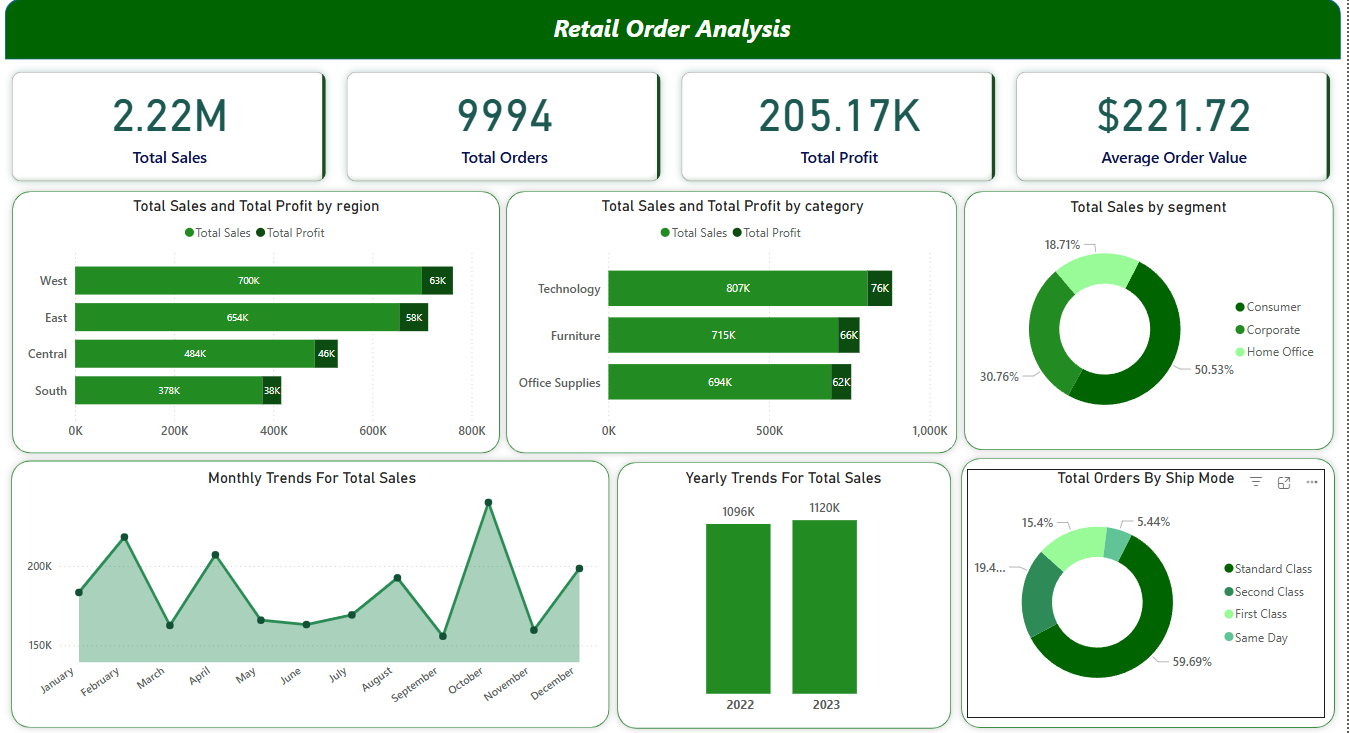

The page's visual inventory and layout, read from the dashboard file:
{"tool":"powerbi","page":{"name":"Page 1","canvas":[1500,820],"ordinal":0},"visuals":[{"type":"shape","box":[8.4,2.4,1484.3,67.5],"z":0},{"type":"cardVisual","fields":{"Data":["Orders.Total Sales","Orders.Total Orders","Orders.Total Profit","Orders.Average Order Value"]},"box":[3.6,69.9,1492.8,148.2],"z":1000},{"type":"textbox","box":[557.8,9.6,384.3,51.8],"z":2000},{"type":"shape","box":[8.4,207.2,558,307.2],"z":3000},{"type":"barChart","fields":{"Category":["Orders.region"],"Y":["Orders.Total Sales","Orders.Total Profit"]},"box":[27.7,221.7,520.5,278.3],"z":4000},{"type":"shape","box":[557.8,207.2,517,307.2],"z":5000},{"type":"shape","box":[7.2,500,680.7,320],"z":6000},{"type":"lineChart","title":"Monthly Trends For Total Sales","fields":{"Category":["Orders.order_date.Variation.Date Hierarchy.Month"],"Y":["Orders.Total Sales"]},"box":[27.7,524.1,644.6,280.7],"z":7000},{"type":"shape","box":[1066.3,207.2,426.5,303.6],"z":8000},{"type":"barChart","fields":{"Category":["Orders.category"],"Y":["Orders.Total Sales","Orders.Total Profit"]},"box":[573.5,221.7,488,278.3],"z":9000},{"type":"donutChart","fields":{"Category":["Orders.segment"],"Y":["Orders.Total Sales"]},"box":[1080.7,222.9,396.4,272.3],"z":10000},{"type":"shape","box":[680.7,508.4,387,312],"z":11000},{"type":"shape","box":[1063.9,504.8,431.3,315.7],"z":12000},{"type":"donutChart","title":"Total Orders By Ship Mode","fields":{"Category":["Orders.ship_mode"],"Y":["CountNonNull(Orders.order_id)"]},"box":[1078.3,524.1,397.6,277.1],"z":13000},{"type":"columnChart","title":"Yearly Trends For Total Sales","fields":{"Category":["Orders.order_date.Variation.Date Hierarchy.Year"],"Y":["Sum(Orders.sale_price)"]},"box":[696.4,524.1,354.2,280.7],"z":14000}]}

Visuals, with their boxes in screenshot pixels (x1, y1, x2, y2), scaled from the page's 1500x820 canvas onto the 1350x733 screenshot:
shape: [8,2,1343,62]
cardVisual - Orders.Total Sales x Orders.Total Orders: [3,62,1347,195]
textbox: [502,9,848,55]
shape: [8,185,510,460]
barChart - Orders.region x Orders.Total Sales: [25,198,493,447]
shape: [502,185,967,460]
shape: [6,447,619,732]
"Monthly Trends For Total Sales" lineChart: [25,468,605,719]
shape: [960,185,1344,457]
barChart - Orders.category x Orders.Total Sales: [516,198,955,447]
donutChart - Orders.segment x Orders.Total Sales: [973,199,1329,443]
shape: [613,454,961,732]
shape: [958,451,1346,732]
"Total Orders By Ship Mode" donutChart: [970,468,1328,716]
"Yearly Trends For Total Sales" columnChart: [627,468,946,719]
